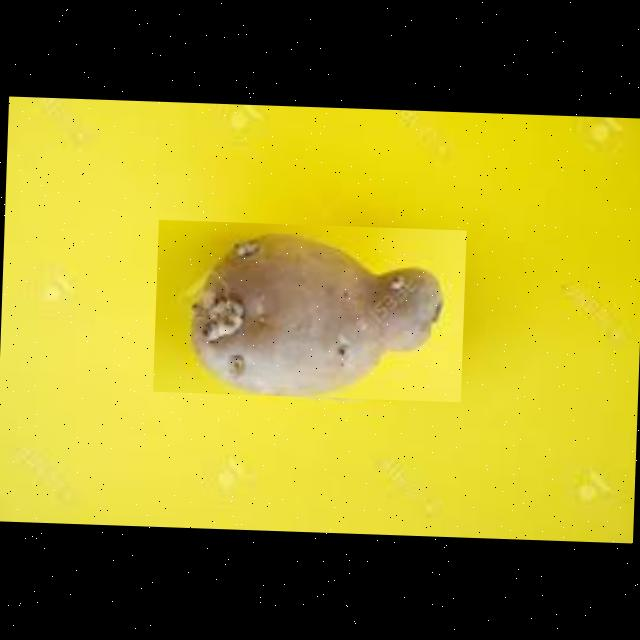Sprouted potato: (152, 219, 466, 402)
